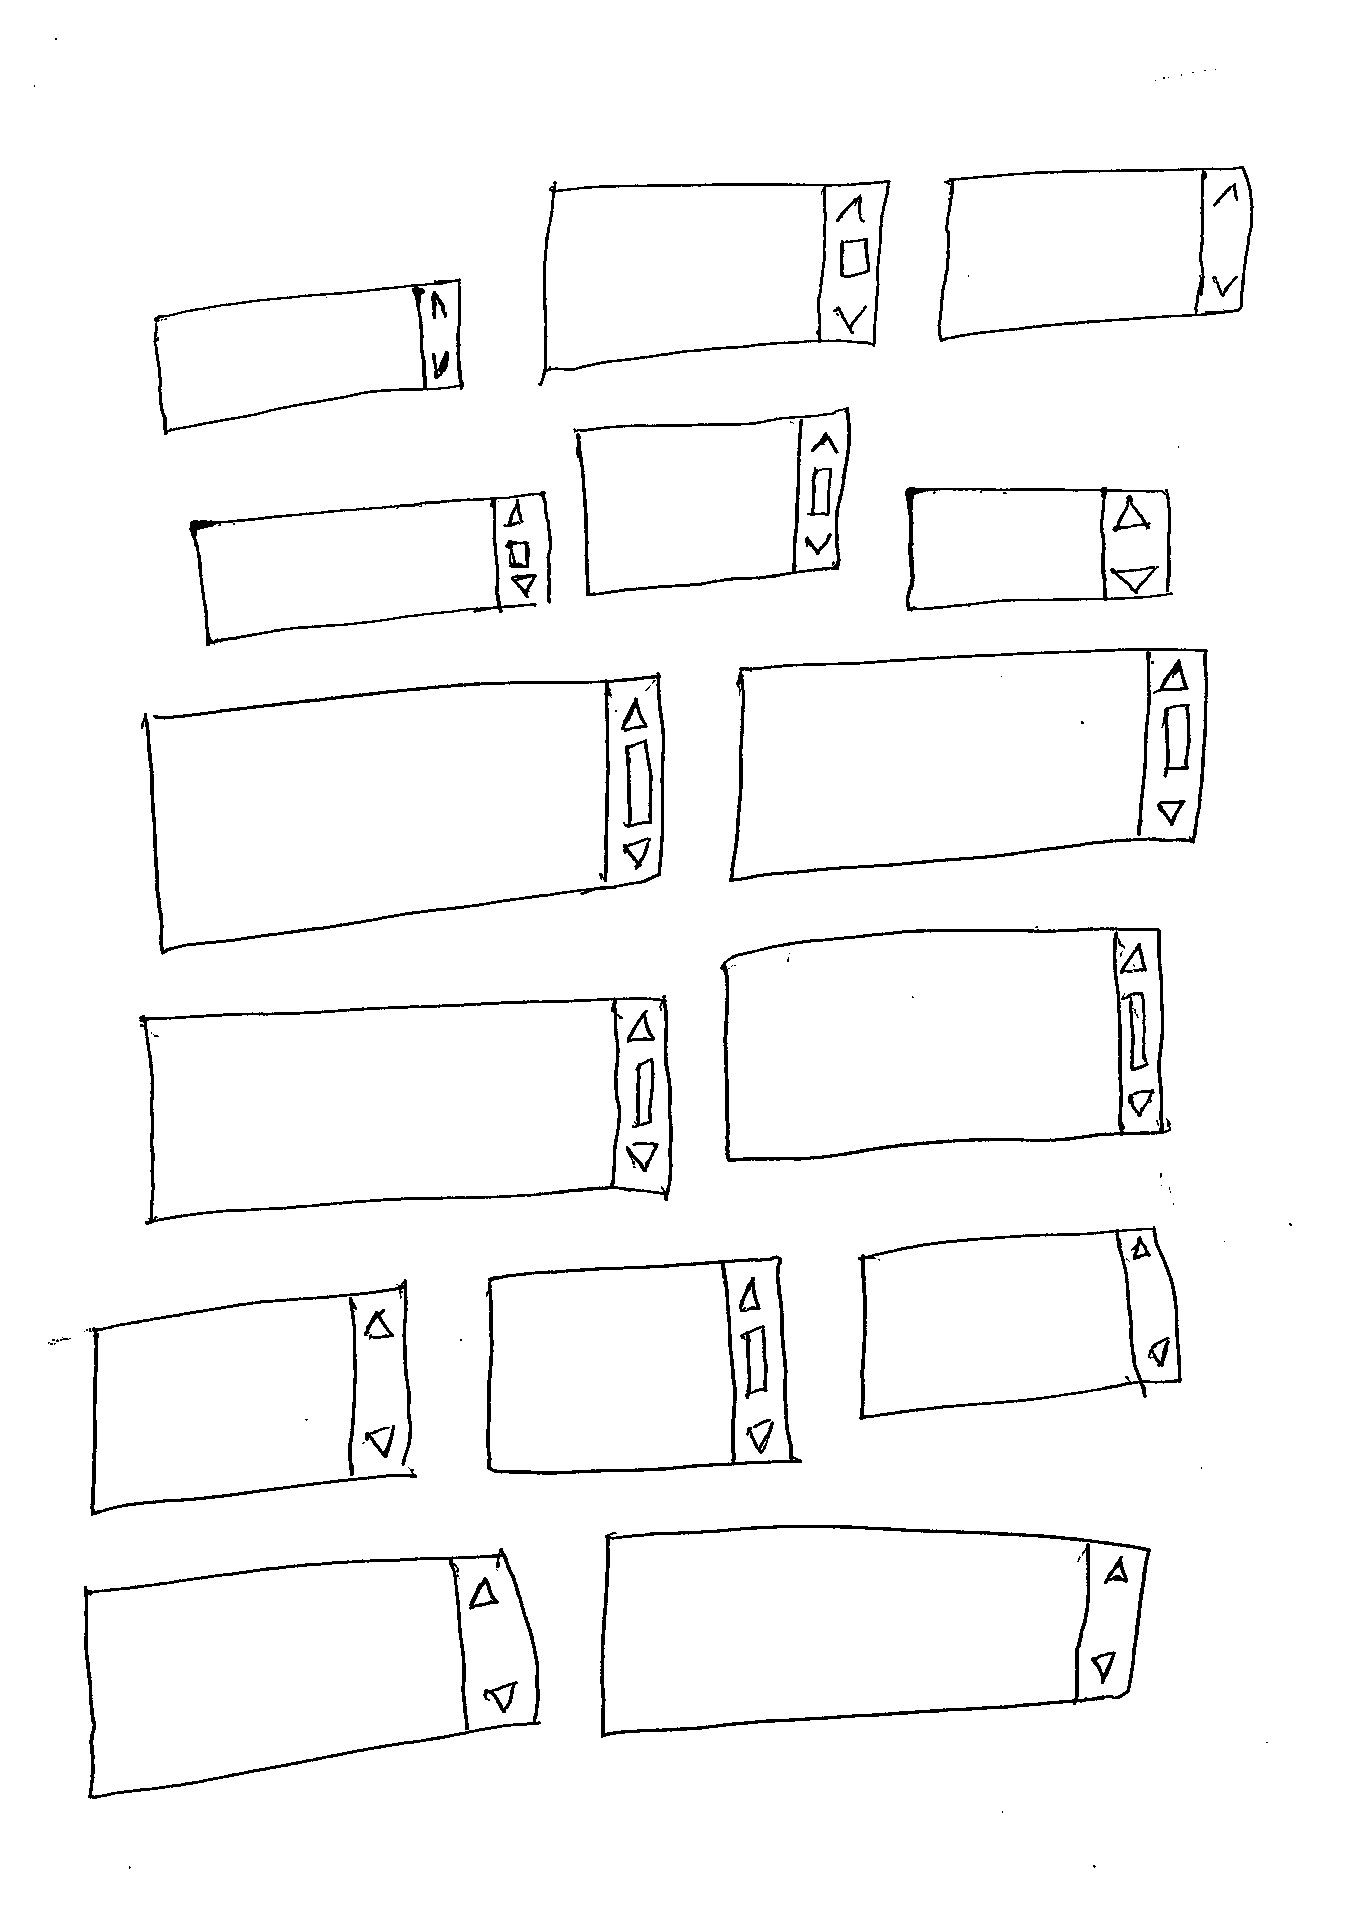Textarea: (142, 671, 670, 957), (137, 992, 676, 1226), (596, 1521, 1155, 1739), (726, 642, 1211, 886), (81, 1551, 543, 1801), (718, 921, 1166, 1167), (87, 1279, 414, 1517), (540, 177, 891, 386), (482, 1254, 801, 1477), (854, 1226, 1186, 1424), (186, 486, 556, 649), (936, 161, 1257, 345), (571, 407, 856, 600), (152, 276, 467, 438), (900, 483, 1175, 612)
